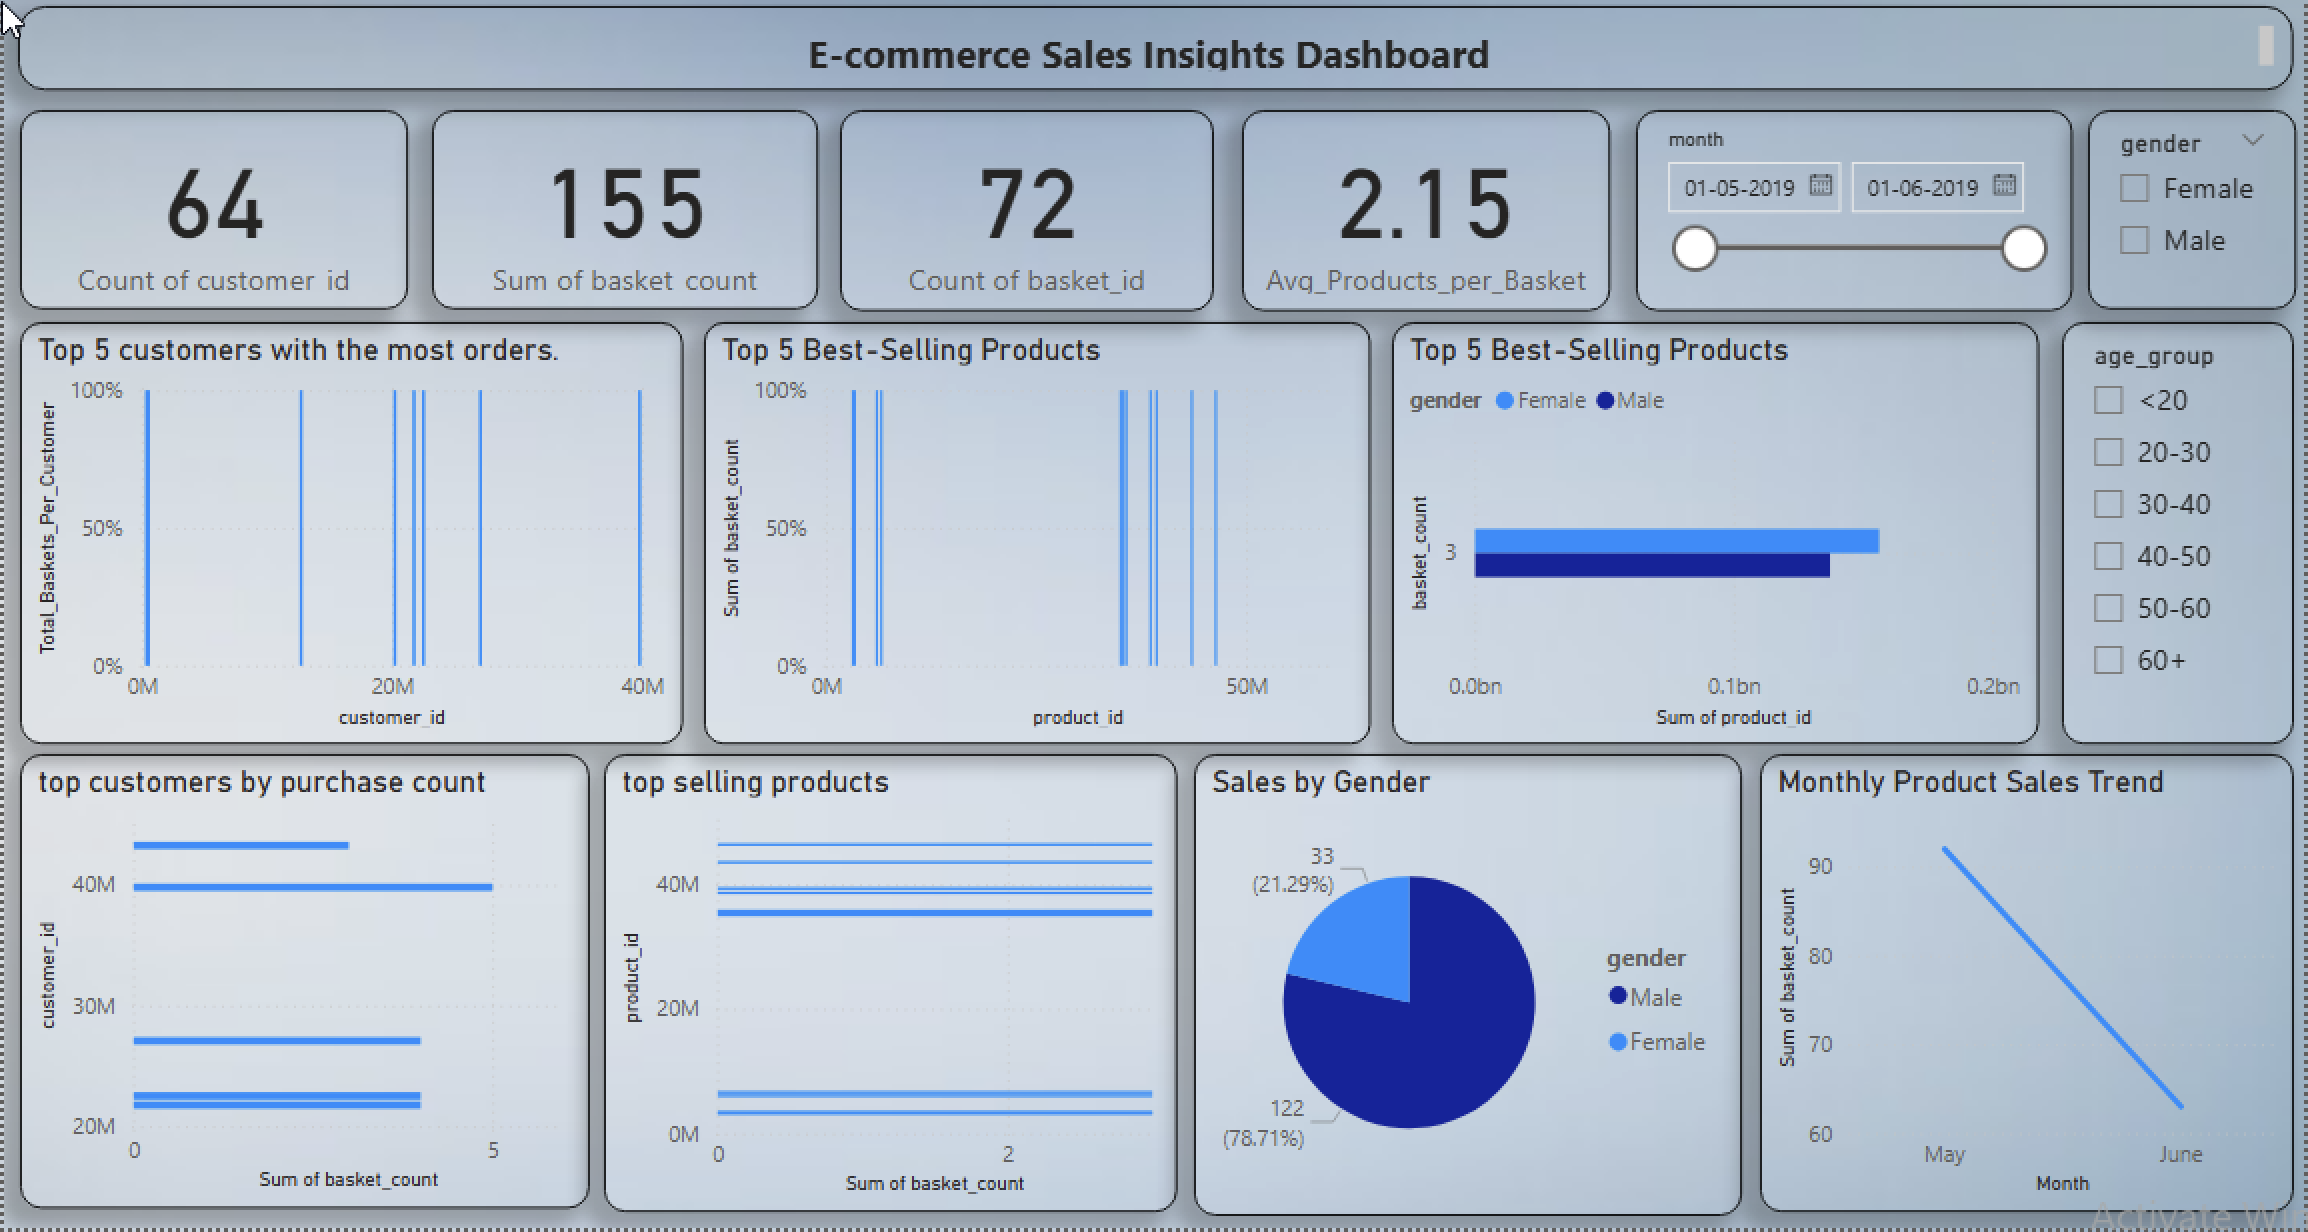

The page's visual inventory and layout, read from the dashboard file:
{"tool":"powerbi","page":{"name":"Ecommerce_Sales_Visualization","canvas":[1280,720],"ordinal":0},"visuals":[{"type":"card","fields":{"Values":["Count(ecommerce_cleaned.customer_id)"]},"box":[8.9,97.9,215.9,111.3],"z":0},{"type":"card","fields":{"Values":["Count(ecommerce_cleaned.basket_id)"]},"box":[465.2,97.9,208.1,112.4],"z":1000},{"type":"card","fields":{"Values":["Sum(ecommerce_cleaned.basket_count)"]},"box":[238.1,97.9,214.8,111.3],"z":2000},{"type":"actionButton","box":[0,0,100,40],"z":3000},{"type":"card","fields":{"Values":["ecommerce_cleaned.Avg_Products_per_Basket"]},"box":[688.8,97.9,204.8,112.4],"z":4000},{"type":"lineChart","title":"Monthly Product Sales Trend","fields":{"Y":["Sum(ecommerce_cleaned.basket_count)"],"Category":["ecommerce_cleaned.month.Variation.Date Hierarchy.Month"]},"box":[976.7,456.8,297.1,255],"z":5000},{"type":"pieChart","title":"Sales by Gender","fields":{"Category":["ecommerce_cleaned.gender"],"Y":["Sum(ecommerce_cleaned.basket_count)"]},"box":[662.3,456.8,304.5,257.5],"z":6000},{"type":"barChart","title":"top customers by purchase count","fields":{"Category":["ecommerce_cleaned.customer_id"],"Y":["Sum(ecommerce_cleaned.basket_count)"]},"box":[8.7,456.8,316.9,252.5],"z":7000},{"type":"barChart","title":"top selling products","fields":{"Category":["ecommerce_cleaned.product_id"],"Y":["Sum(ecommerce_cleaned.basket_count)"]},"box":[334.2,456.8,319.4,255],"z":8000},{"type":"hundredPercentStackedColumnChart","title":"Top 5 customers with the most orders.","fields":{"Y":["ecommerce_cleaned.Total_Baskets_Per_Customer"],"Category":["ecommerce_cleaned.customer_id"]},"box":[8.7,215.8,368.9,235.2],"z":9000},{"type":"hundredPercentStackedColumnChart","title":"Top 5 Best-Selling Products","fields":{"Category":["ecommerce_cleaned.product_id"],"Y":["Sum(ecommerce_cleaned.basket_count)"]},"box":[390,215.8,371.4,235.2],"z":10000},{"type":"textbox","box":[65.7,7.8,1214.1,12.2],"z":11000},{"type":"clusteredBarChart","title":"Top 5 Best-Selling Products","fields":{"Y":["Sum(ecommerce_cleaned.product_id)"],"Category":["ecommerce_cleaned.basket_count"],"Series":["ecommerce_cleaned.gender"]},"box":[772.5,215.8,360.2,235.2],"z":12000},{"type":"slicer","fields":{"Values":["ecommerce_cleaned.month"]},"box":[908.1,97.9,242.6,112.4],"z":13000},{"type":"slicer","fields":{"Values":["ecommerce_cleaned.gender"]},"box":[1159.6,97.9,115.7,111.3],"z":14000},{"type":"slicer","fields":{"Values":["ecommerce_cleaned.age_group"]},"box":[1145.1,215.8,128.7,235.2],"z":15000},{"type":"textbox","box":[7.8,40.1,1266.4,46.7],"z":16000}]}

Visuals, with their boxes on the page's 1280x720 design canvas (x1, y1, x2, y2). These are canvas units, not pixel positions in the 2308x1232 screenshot, which may show the page scaled, cropped or inside an application window:
card - Count(ecommerce_cleaned.customer_id): pyautogui.locateOnScreen(9, 98, 225, 209)
card - Count(ecommerce_cleaned.basket_id): pyautogui.locateOnScreen(465, 98, 673, 210)
card - Sum(ecommerce_cleaned.basket_count): pyautogui.locateOnScreen(238, 98, 453, 209)
actionButton: pyautogui.locateOnScreen(0, 0, 100, 40)
card - ecommerce_cleaned.Avg_Products_per_Basket: pyautogui.locateOnScreen(689, 98, 894, 210)
"Monthly Product Sales Trend" lineChart: pyautogui.locateOnScreen(977, 457, 1274, 712)
"Sales by Gender" pieChart: pyautogui.locateOnScreen(662, 457, 967, 714)
"top customers by purchase count" barChart: pyautogui.locateOnScreen(9, 457, 326, 709)
"top selling products" barChart: pyautogui.locateOnScreen(334, 457, 654, 712)
"Top 5 customers with the most orders." hundredPercentStackedColumnChart: pyautogui.locateOnScreen(9, 216, 378, 451)
"Top 5 Best-Selling Products" hundredPercentStackedColumnChart: pyautogui.locateOnScreen(390, 216, 761, 451)
textbox: pyautogui.locateOnScreen(66, 8, 1280, 20)
"Top 5 Best-Selling Products" clusteredBarChart: pyautogui.locateOnScreen(772, 216, 1133, 451)
slicer - ecommerce_cleaned.month: pyautogui.locateOnScreen(908, 98, 1151, 210)
slicer - ecommerce_cleaned.gender: pyautogui.locateOnScreen(1160, 98, 1275, 209)
slicer - ecommerce_cleaned.age_group: pyautogui.locateOnScreen(1145, 216, 1274, 451)
textbox: pyautogui.locateOnScreen(8, 40, 1274, 87)
